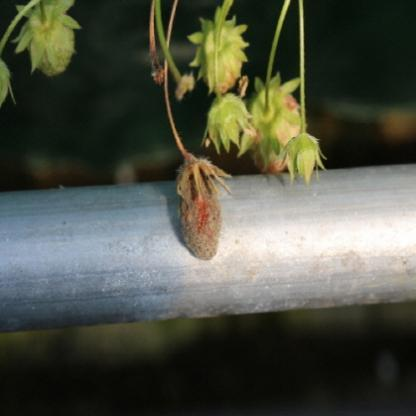Strawberry_Gray_Mold: (175, 152, 232, 262)
